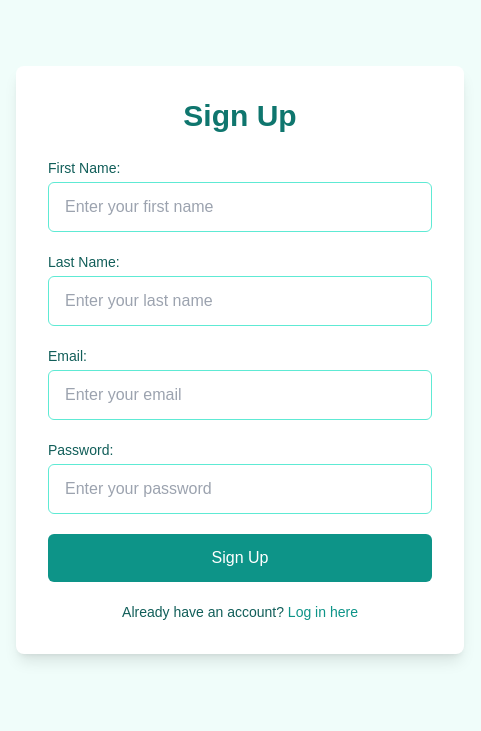
Test case: SignUp Component › validates correct password format
This screenshot has width=481, height=731.
Type "weakpass" into the password field labelled "Password:" at (240, 489), box 48,464 -> 432,514
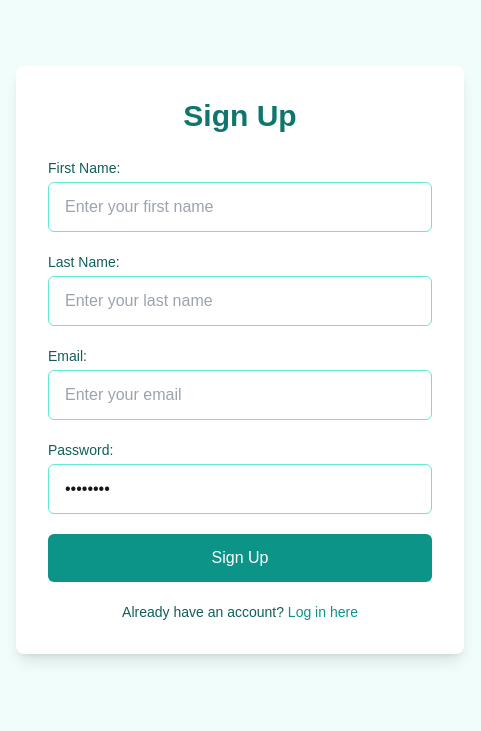
Click the button "Sign Up" at (240, 558), box 48,534 -> 432,582
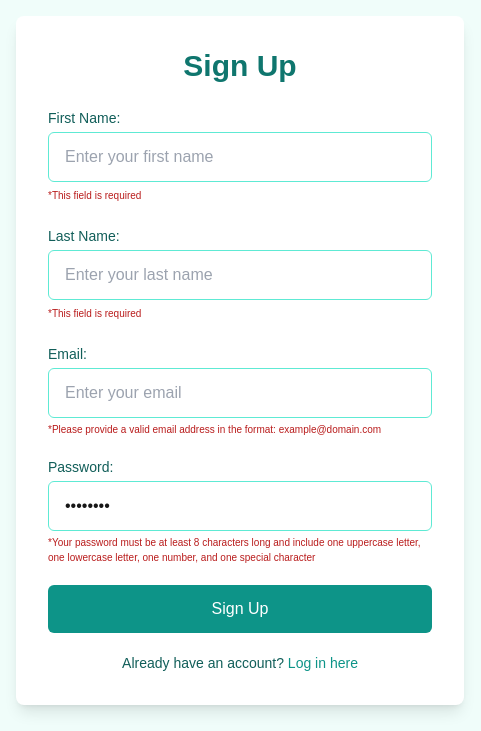
Result: the text "*Your password must be at least 8 characters long and include one uppercase letter, one lowercase letter, one number, an" is shown at 48,536 -> 421,562
